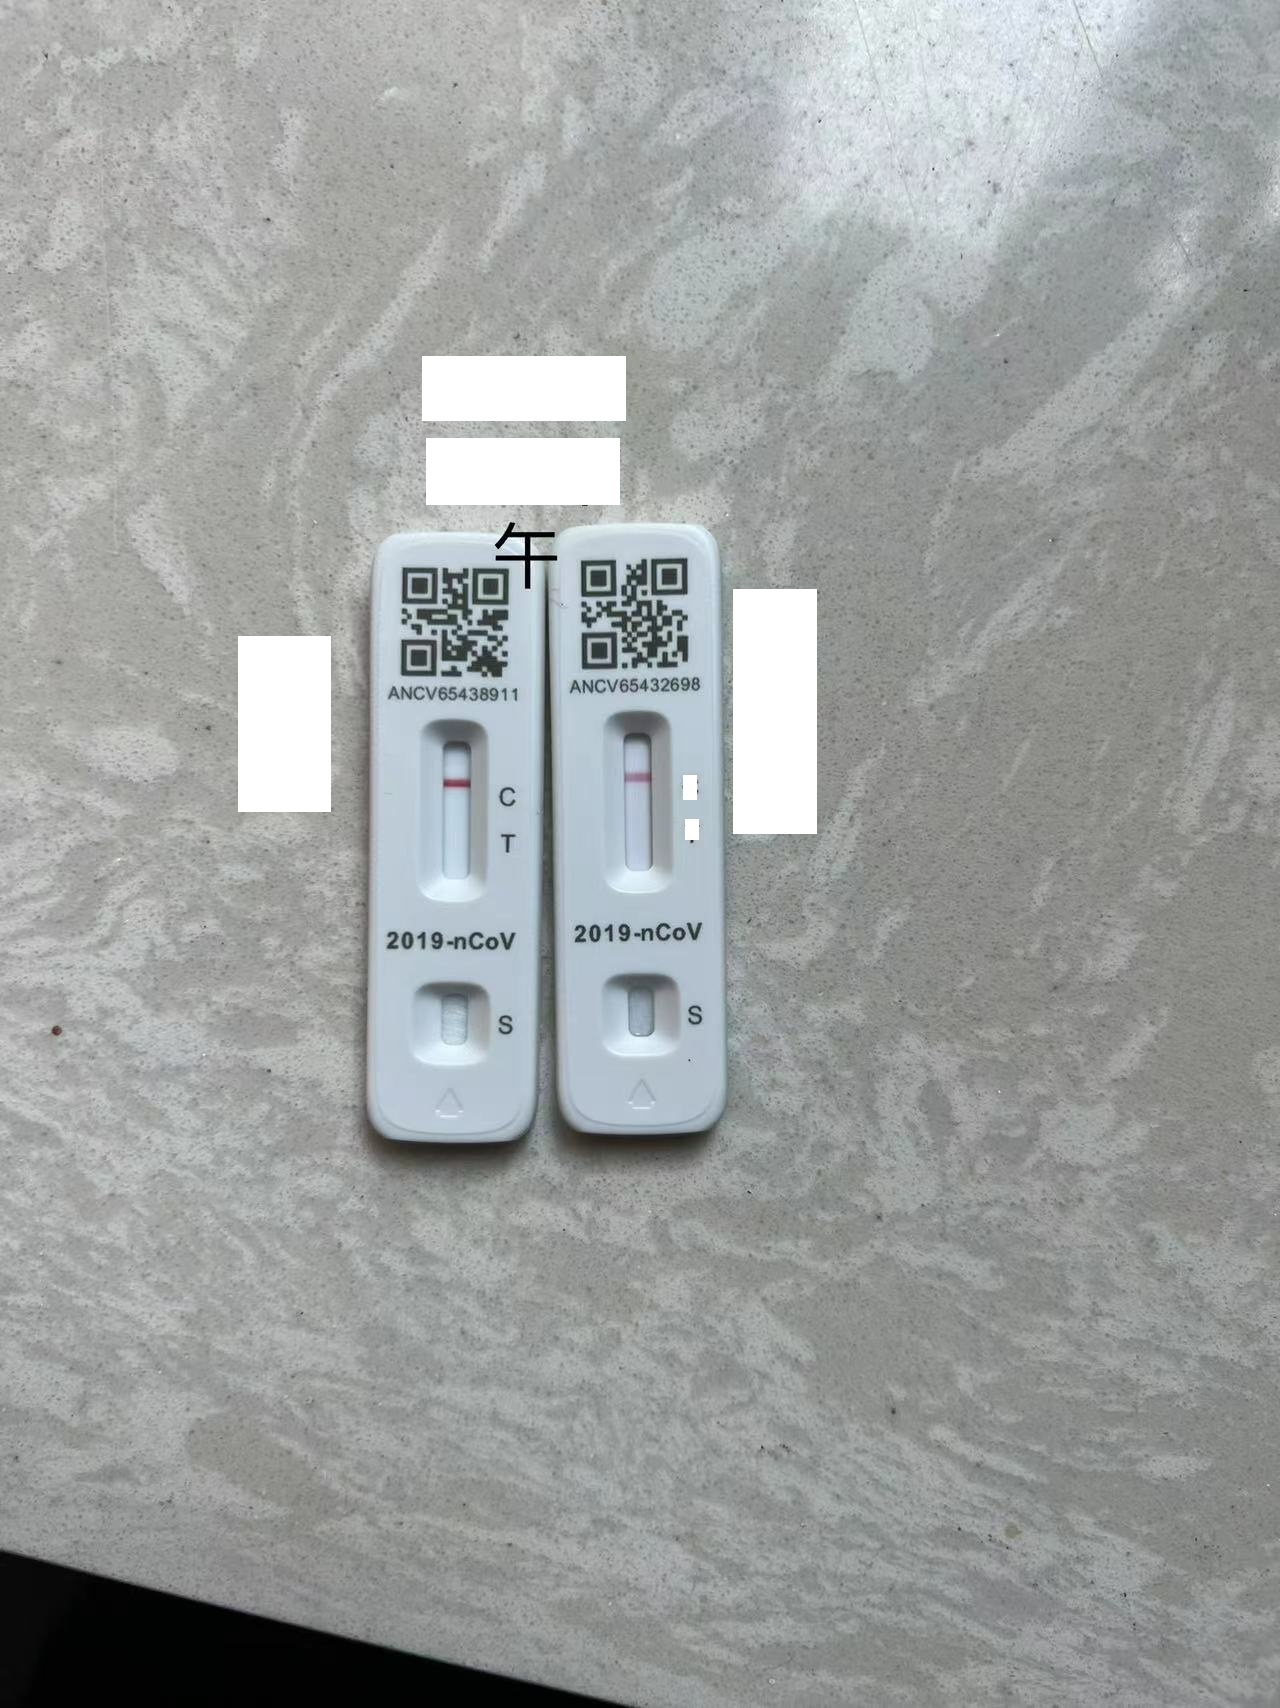negative: (600, 711, 676, 886), (417, 720, 489, 904)
